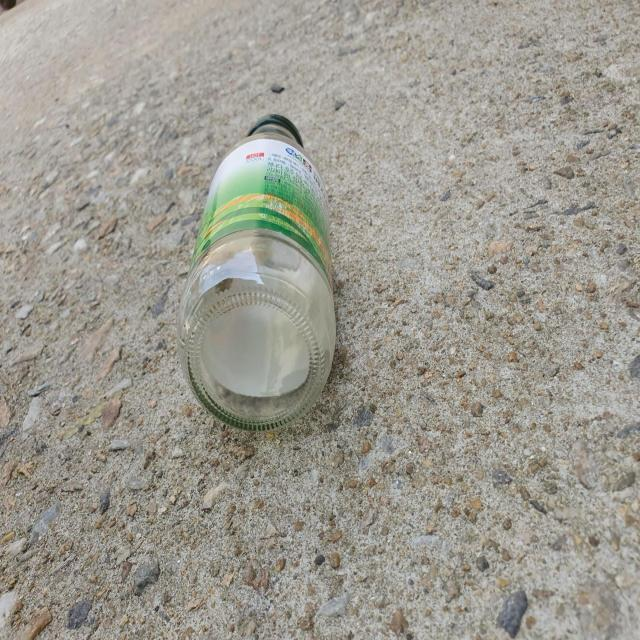glass: (177, 113, 336, 430)
